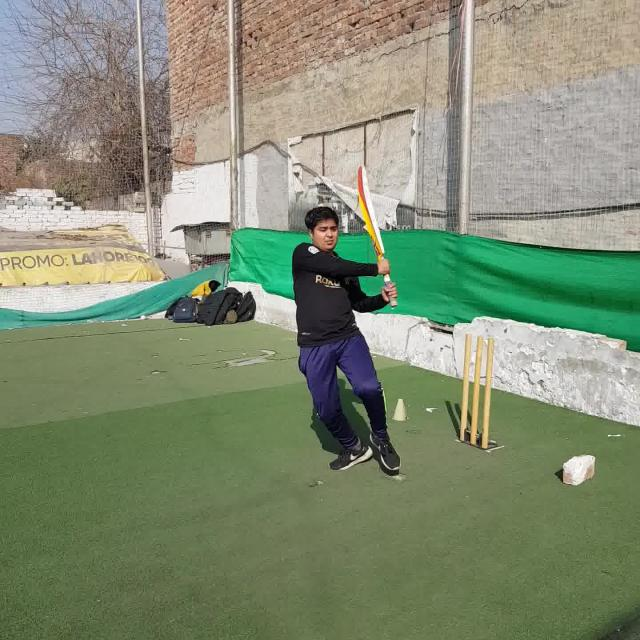bat: (358, 166, 397, 306)
